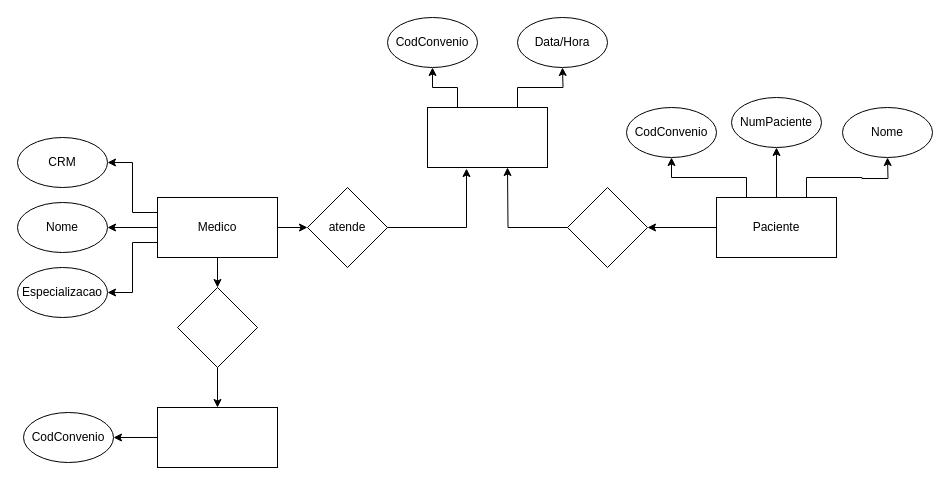
Some shapes in this 950 by 485 pixel diagram are drawn without their labels. The shapes that lost their labels are listed below. From the top down, each one's centre as x and y in pixels, then its label:
At (x=487, y=137): "Consulta".
At (x=607, y=227): "realiza".
At (x=217, y=327): "tem".
At (x=217, y=437): "Convenio".
